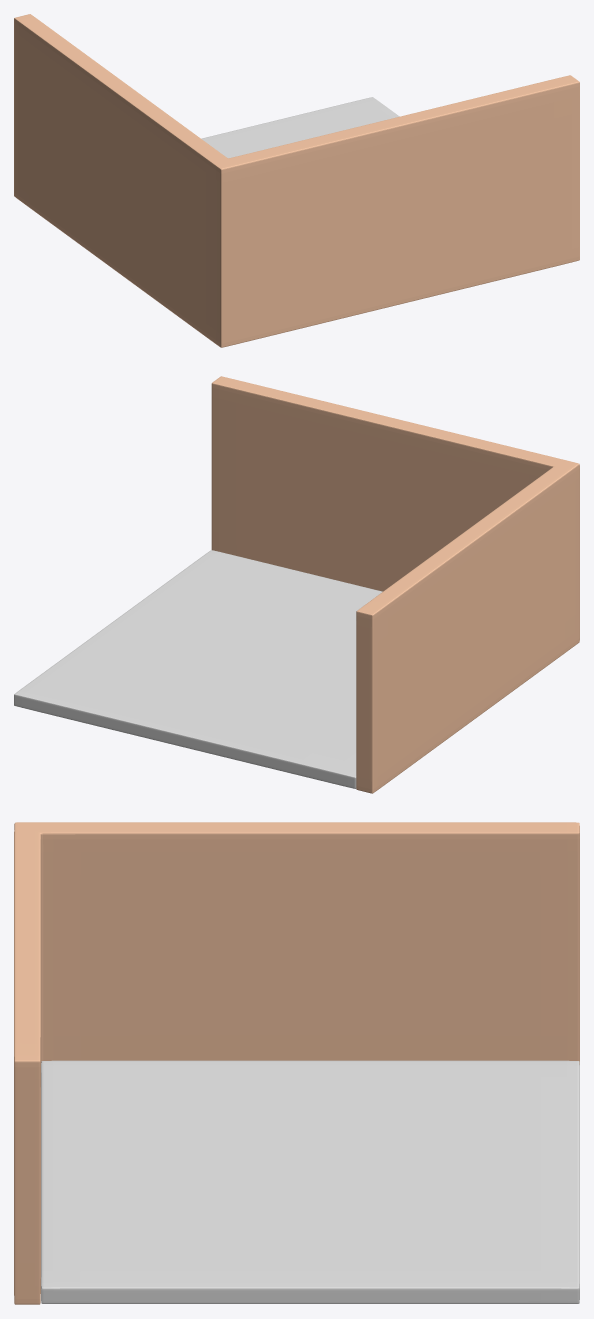
Rendered from base_cafe.fbx.
The picture shows the model from 3 angles, top to bottom: view 1: azimuth 30°, elevation 25°; view 2: azimuth 150°, elevation 25°; view 3: azimuth 270°, elevation 25°; orthographic projection. The views are drawn at different scales.
Visible parts, largest first — view 1: Cube.026, Cube.027; view 2: Cube.026, Cube.027; view 3: Cube.026, Cube.027.
Part boxes in pixels (x1=…): Cube.026: x1=14, y1=14, x2=579, y2=347; Cube.027: x1=201, y1=97, x2=399, y2=158; Cube.026: x1=211, y1=376, x2=579, y2=793; Cube.027: x1=14, y1=550, x2=382, y2=788; Cube.026: x1=14, y1=822, x2=579, y2=1304; Cube.027: x1=41, y1=1060, x2=579, y2=1303.
Size of the model in its own units: 2100 by 1000 by 2100.
